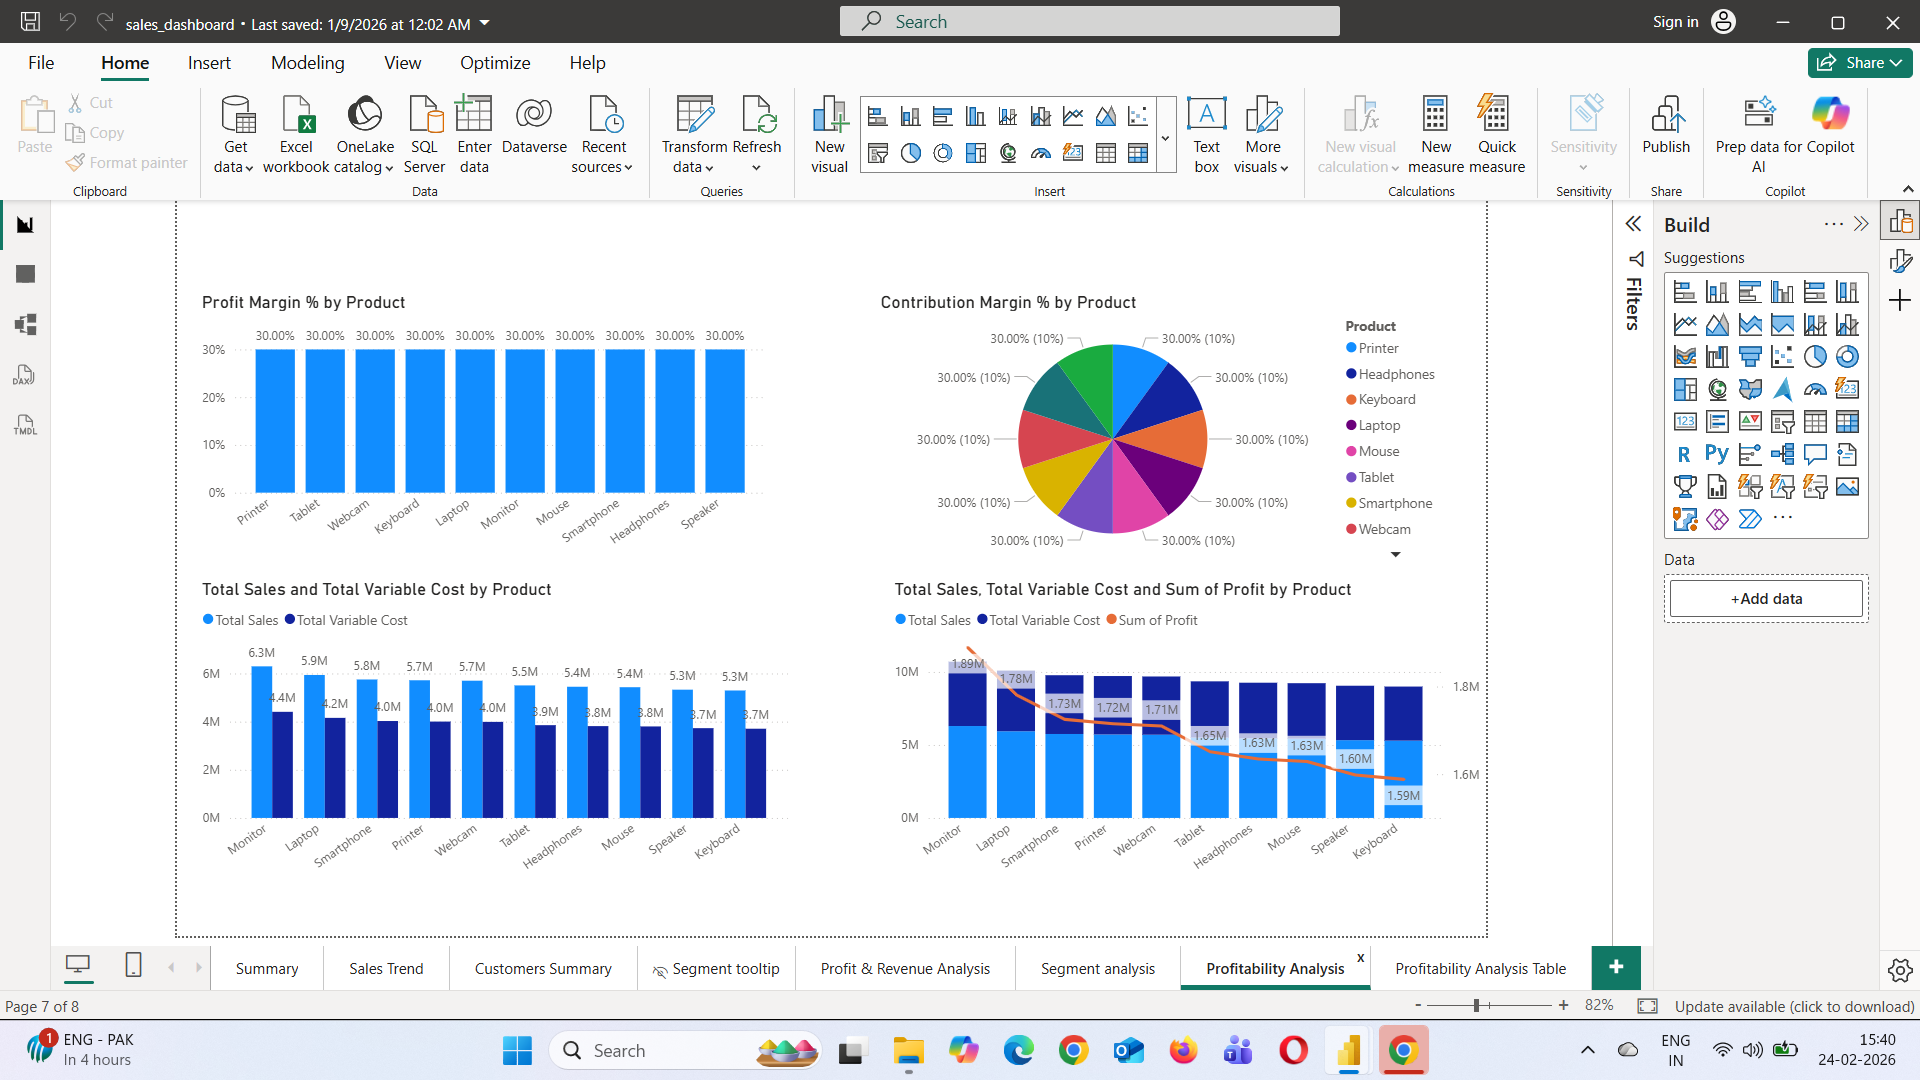

This screenshot's page, from the dashboard's own definition file:
{"tool":"powerbi","page":{"name":"Profitability Analysis","canvas":[1280,720],"ordinal":6},"visuals":[{"type":"clusteredColumnChart","fields":{"Category":["SalesData.Product"],"Y":["_All Measures.Profit Margin %"]},"box":[19.6,89.3,561.3,270.2],"z":0},{"type":"pieChart","fields":{"Y":["_All Measures.Contribution Margin %"],"Category":["SalesData.Product"]},"box":[683.6,89.3,561.3,270.2],"z":1},{"type":"clusteredColumnChart","fields":{"Category":["SalesData.Product"],"Y":["_All Measures.Total Sales","_All Measures.Total Variable Cost"]},"box":[19.6,370.5,583.3,306.9],"z":2},{"type":"lineStackedColumnComboChart","fields":{"Category":["SalesData.Product"],"Y":["_All Measures.Total Sales","_All Measures.Total Variable Cost"],"Y2":["Sum(SalesData.Profit)"]},"box":[697,370.5,583.3,306.9],"z":3}]}

Visuals, with their boxes on the page's 1280x720 design canvas (x1, y1, x2, y2). These are canvas units, not pixel positions in the 1920x1080 screenshot, which may show the page scaled, cropped or inside an application window:
clusteredColumnChart - SalesData.Product x _All Measures.Profit Margin %: crop(20, 89, 581, 360)
pieChart - _All Measures.Contribution Margin % x SalesData.Product: crop(684, 89, 1245, 360)
clusteredColumnChart - SalesData.Product x _All Measures.Total Sales: crop(20, 370, 603, 677)
lineStackedColumnComboChart - SalesData.Product x _All Measures.Total Sales: crop(697, 370, 1280, 677)
